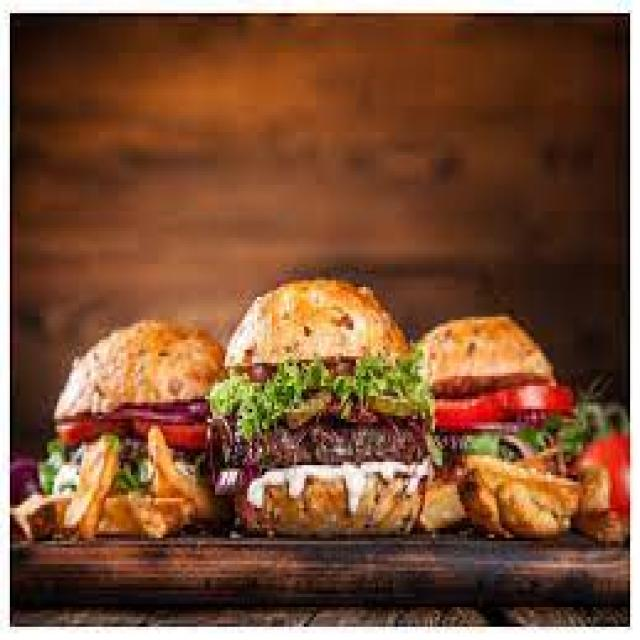Wet Waste: (242, 269, 434, 568), (424, 287, 600, 531), (63, 282, 216, 532)
